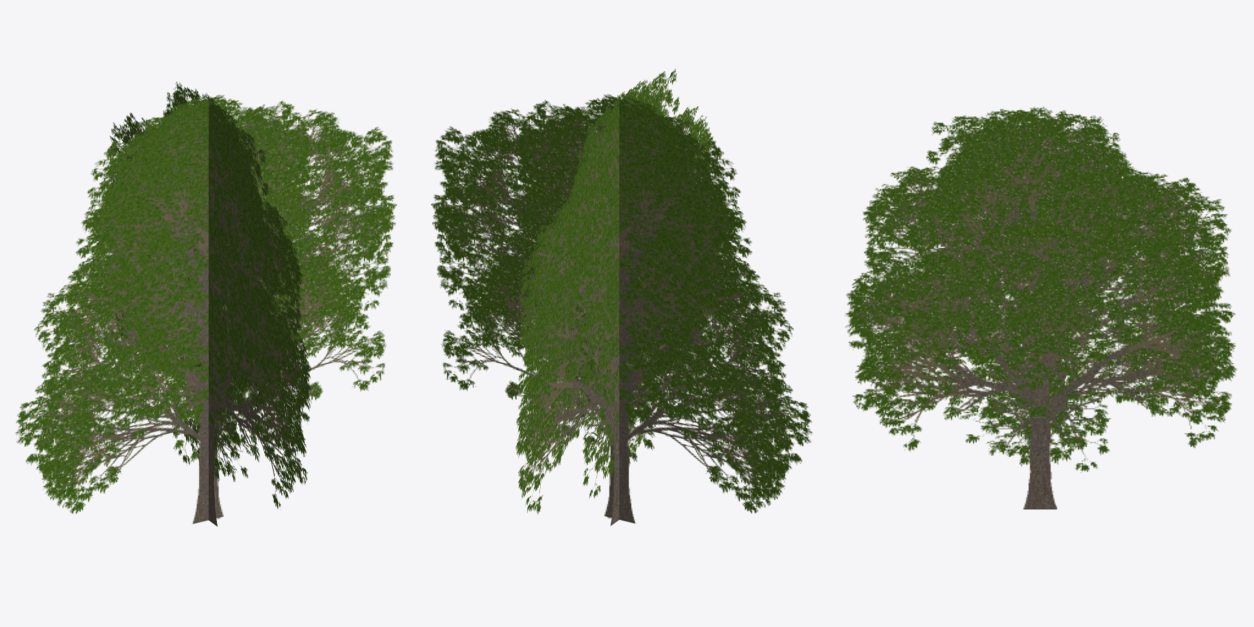
Rendered from CastaneaDentata.glb.
3 renders of one model, left to right at view 1: azimuth 30°, elevation 25°; view 2: azimuth 150°, elevation 25°; view 3: azimuth 270°, elevation 25°, orthographic. The views are drawn at different scales.
Visible parts, largest first — view 1: mesh__mat_billboard_5; view 2: mesh__mat_billboard_5; view 3: mesh__mat_billboard_5.
Boxes of the visible parts, x1,y1,x2,y2 form: mesh__mat_billboard_5: (15, 81, 396, 526); mesh__mat_billboard_5: (431, 69, 812, 525); mesh__mat_billboard_5: (845, 106, 1236, 509).
Size of the model in its own units: 20.68 by 22.82 by 19.51.
1 material, 1 textured.
